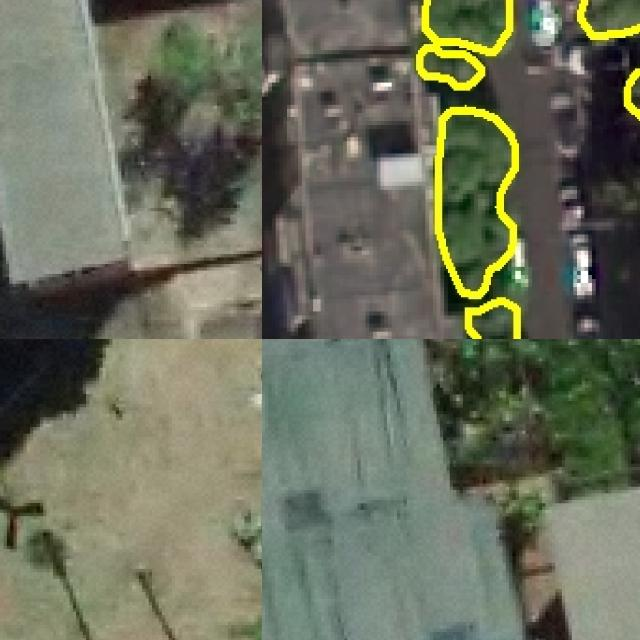trees: (126, 24, 263, 153), (438, 108, 516, 296), (419, 1, 511, 88)
